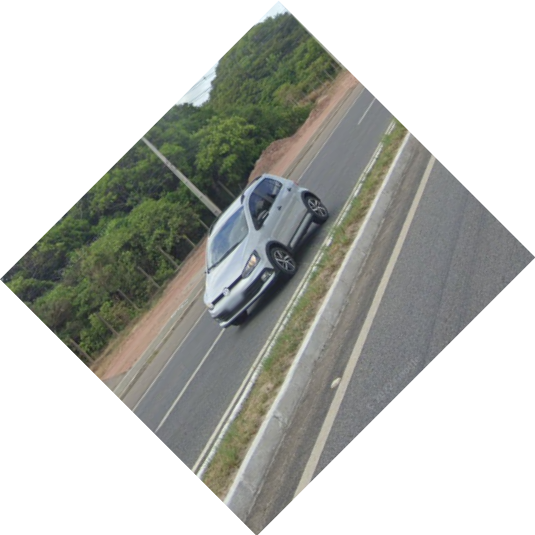car: (205, 174, 329, 330)
